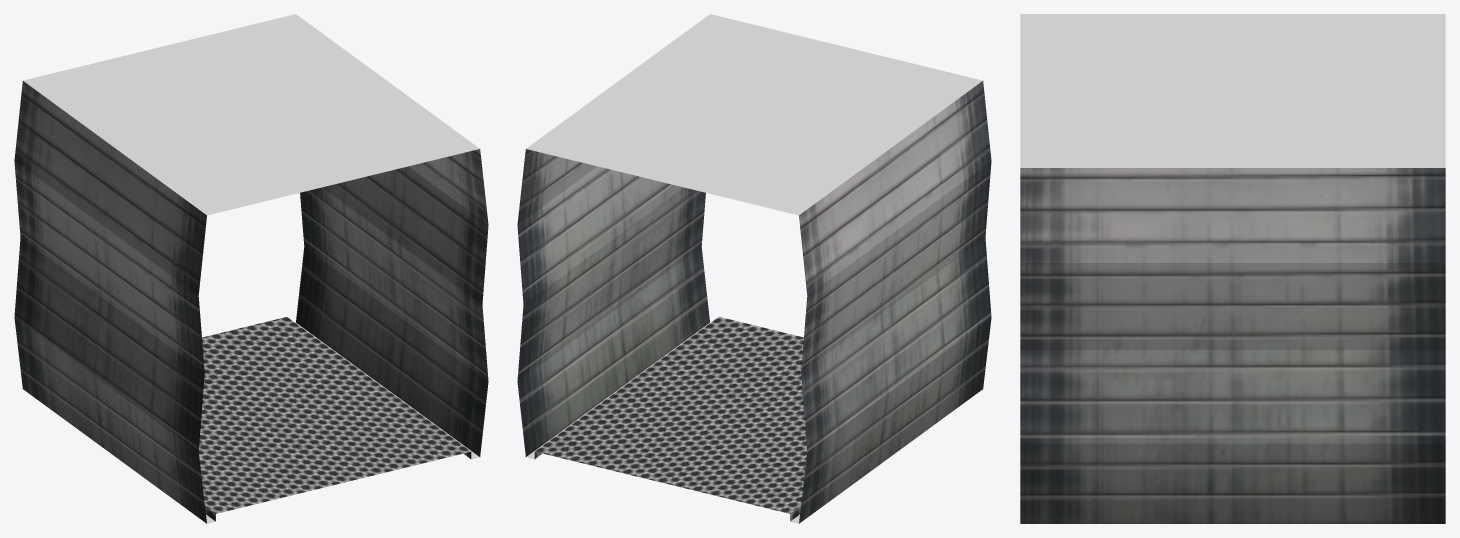
The model's file is Large_Hallway.fbx.
3 renders of one model, left to right at view 1: azimuth 30°, elevation 25°; view 2: azimuth 150°, elevation 25°; view 3: azimuth 270°, elevation 25°, orthographic. The views are drawn at different scales.
Visible parts, largest first — view 1: Large_to_Small_Hallway.001; view 2: Large_to_Small_Hallway.001; view 3: Large_to_Small_Hallway.001.
Part boxes in pixels (x1,y1,x2,y2): Large_to_Small_Hallway.001: (14, 14, 488, 523); Large_to_Small_Hallway.001: (517, 14, 991, 523); Large_to_Small_Hallway.001: (1020, 14, 1445, 523).
Bounding box in the file's own units: 454 × 462 × 500.
